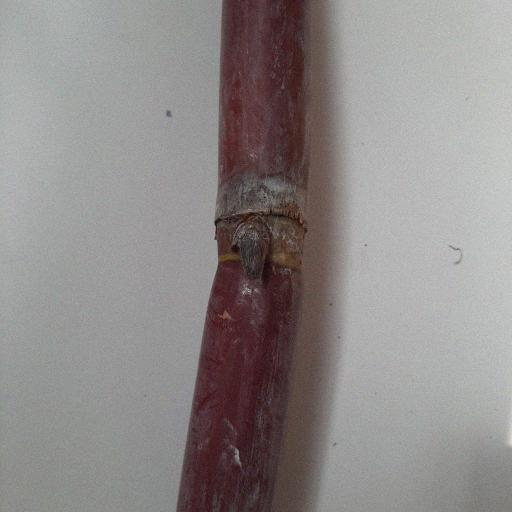Bud: (234, 217, 270, 273)
